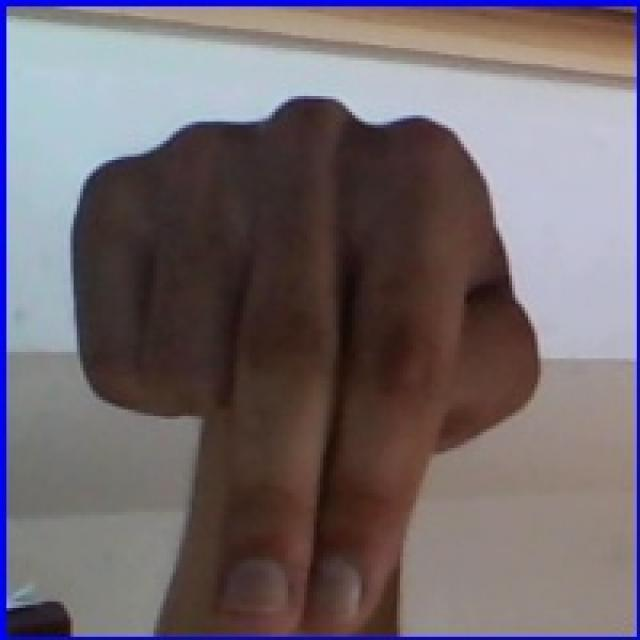Letra-N: (51, 62, 571, 640)
